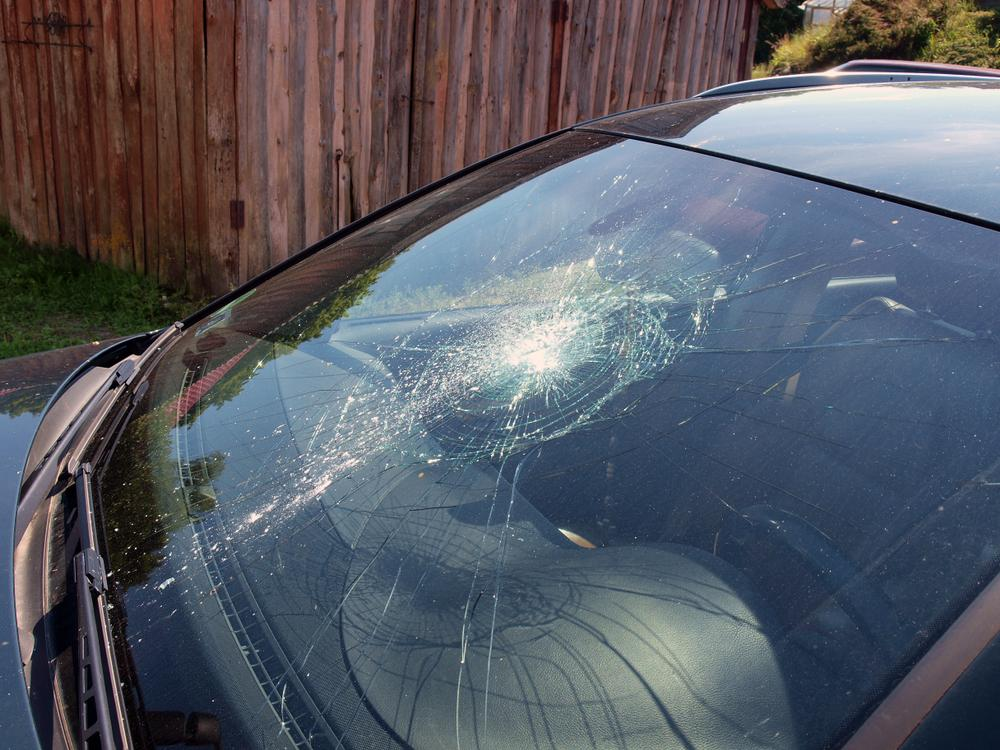glass shatter: (91, 129, 1000, 750)
